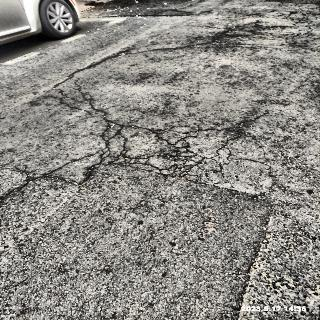alligator-crack: (89, 112, 271, 182), (44, 49, 134, 118), (215, 20, 320, 52)
crack: (2, 147, 102, 204), (87, 8, 207, 20)
